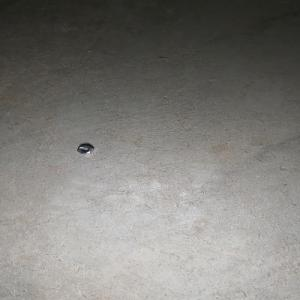Nut: (76, 144, 93, 154)
